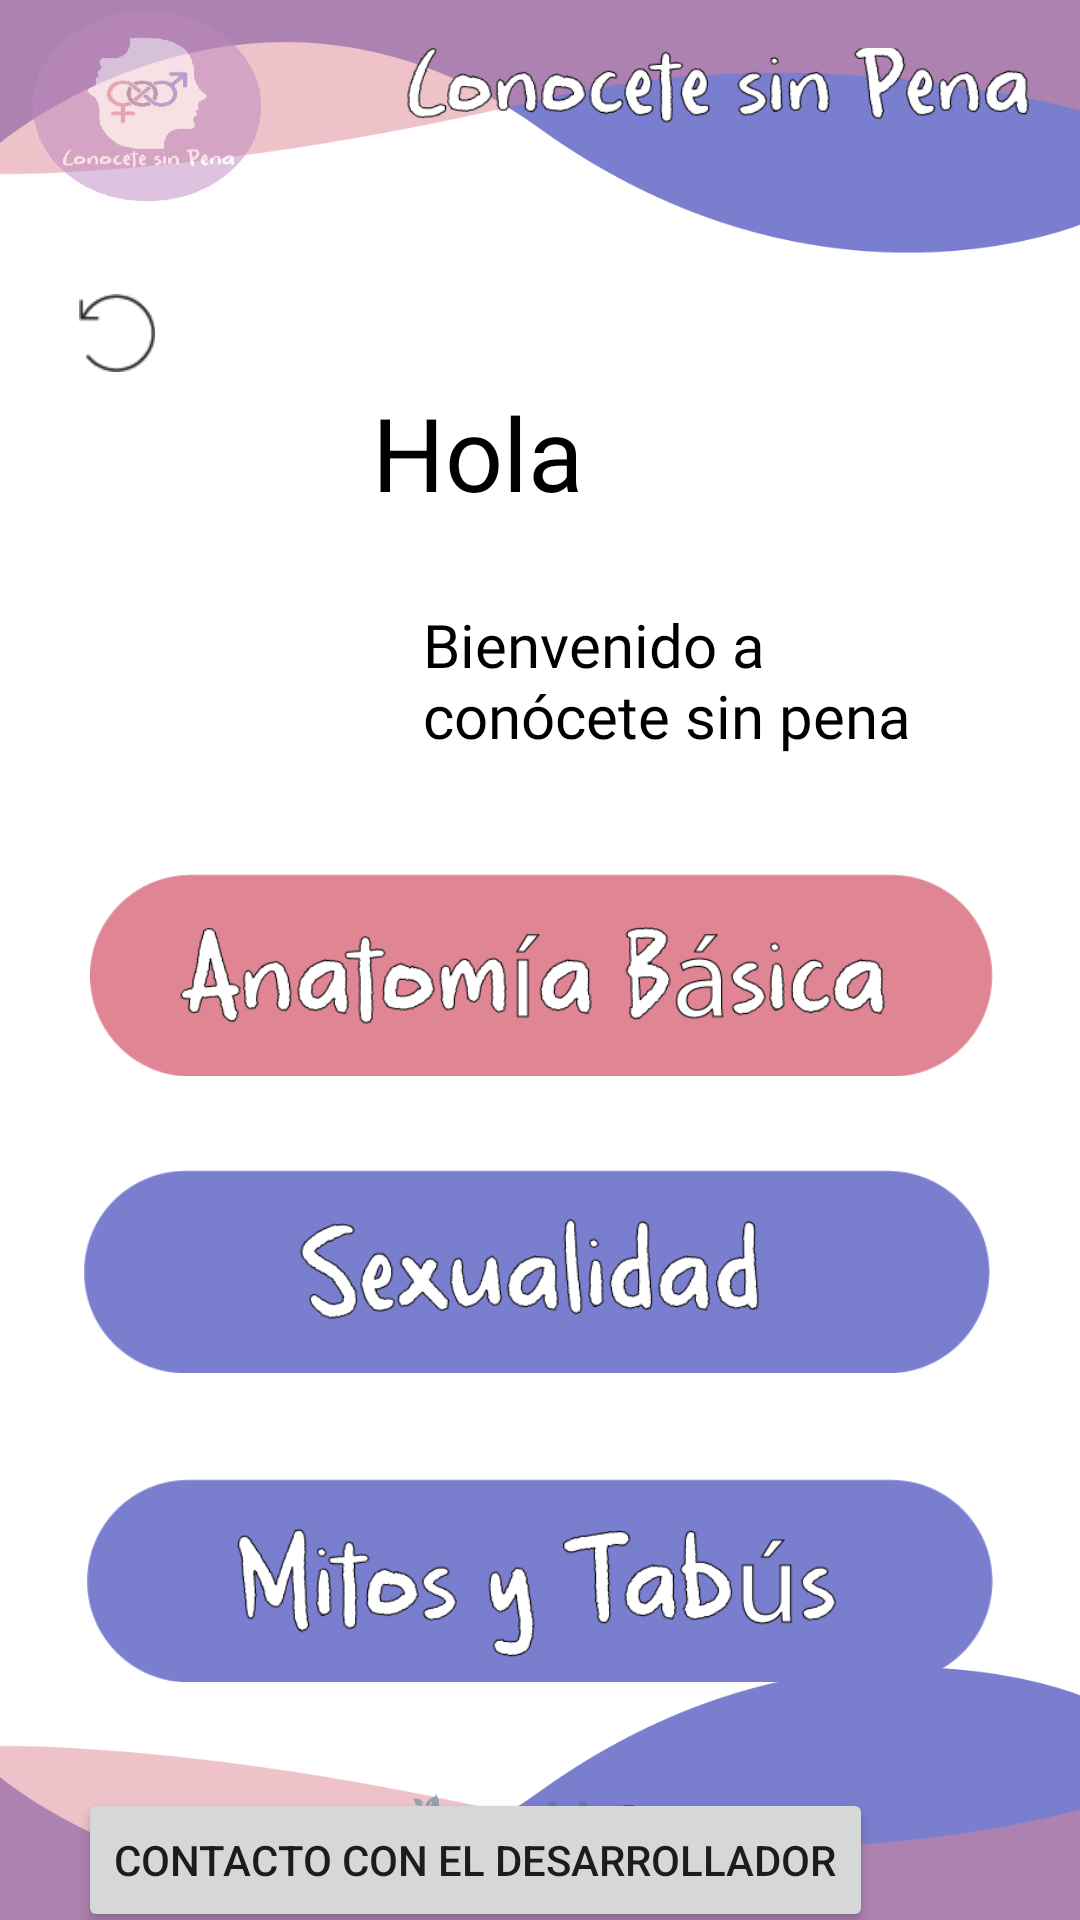

Locate icon controls on the screen. Image size 1080×1920, boxes as (x1, y1, x2, y2).
btnretorno: (79, 294, 155, 372)
